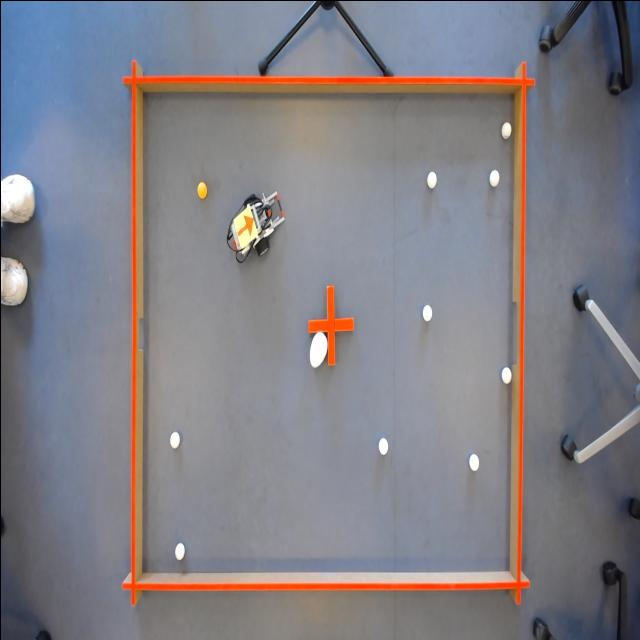cross: (306, 282, 355, 367)
egg: (308, 330, 328, 374)
orange_ball: (195, 177, 207, 201)
robot: (230, 202, 258, 250)
white_ball: (499, 363, 512, 389), (424, 168, 438, 192), (498, 116, 512, 140), (376, 432, 390, 456), (487, 164, 499, 190), (173, 540, 186, 564), (168, 428, 180, 451), (421, 299, 432, 324), (466, 451, 478, 473)
